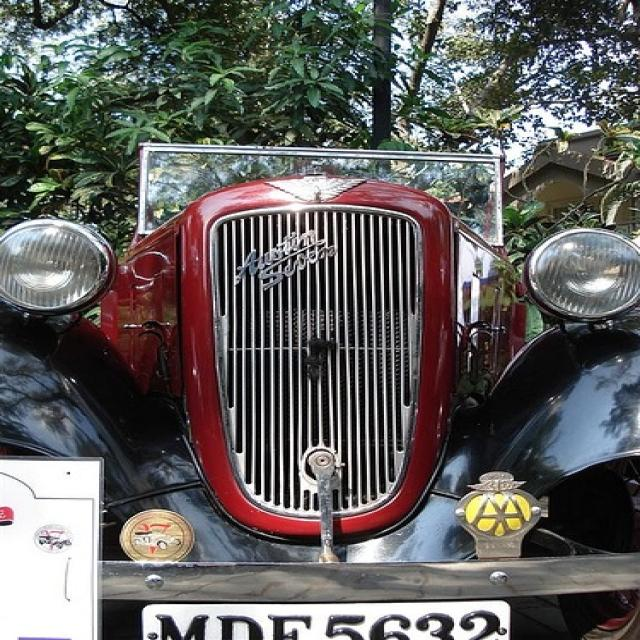car: (2, 138, 638, 639)
